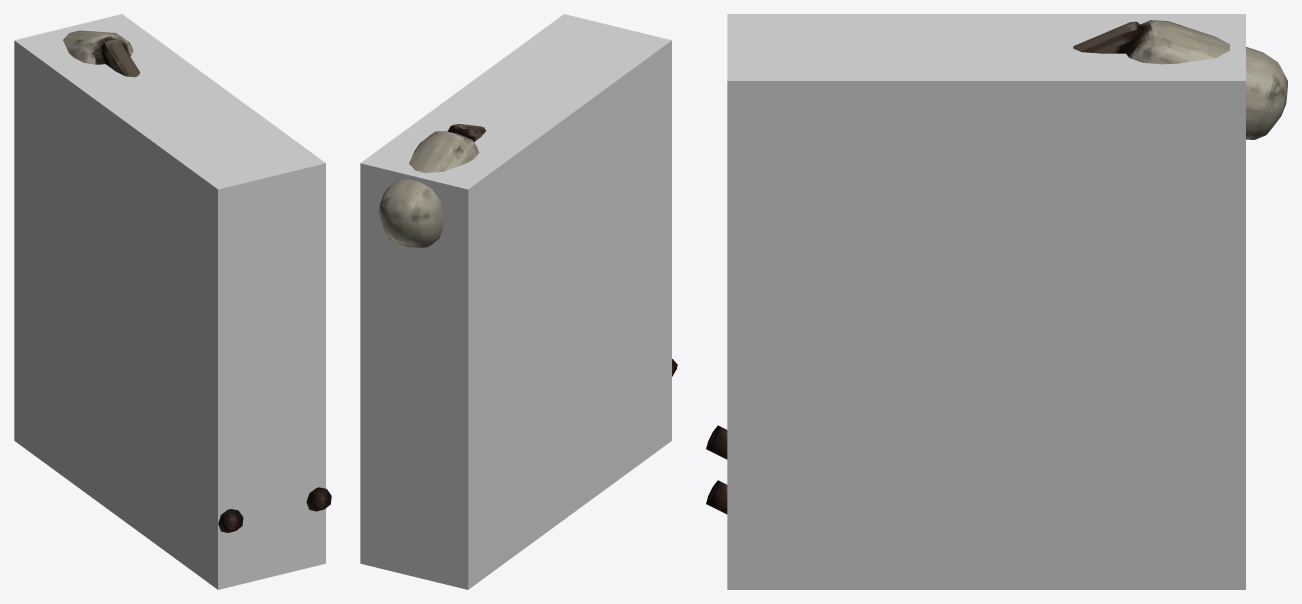
Rendered from RockingHorse.glb.
The picture shows the model from 3 angles, left to right: view 1: azimuth 30°, elevation 25°; view 2: azimuth 150°, elevation 25°; view 3: azimuth 270°, elevation 25°; orthographic projection. The views are drawn at different scales.
Parts seen in each view (by area): view 1: Col_1__Plastic__000000, Tex__SmoothPlastic__FFFFFF; view 2: Col_1__Plastic__000000, Tex__SmoothPlastic__FFFFFF; view 3: Col_1__Plastic__000000, Tex__SmoothPlastic__FFFFFF.
Part boxes in pixels (x1=…): Col_1__Plastic__000000: x1=14, y1=14, x2=325, y2=589; Tex__SmoothPlastic__FFFFFF: x1=63, y1=30, x2=331, y2=532; Col_1__Plastic__000000: x1=360, y1=14, x2=671, y2=589; Tex__SmoothPlastic__FFFFFF: x1=379, y1=124, x2=677, y2=376; Col_1__Plastic__000000: x1=727, y1=14, x2=1245, y2=589; Tex__SmoothPlastic__FFFFFF: x1=706, y1=20, x2=1287, y2=514.
Size of the model in its own units: 0.308 by 1.14 by 1.13.
1 material, 1 textured.
